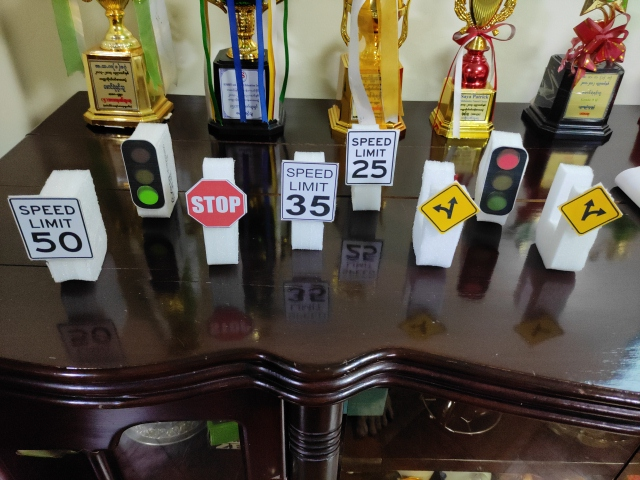Green Traffic Light: (120, 139, 166, 209)
Red Traffic Light: (478, 147, 528, 216)
Speed Limit 25: (346, 128, 397, 184)
Speed Limit 35: (280, 158, 338, 223)
Speed Limit 50: (7, 195, 95, 260)
Stop Sign: (184, 179, 247, 228)
Straight Or Left Sign: (422, 183, 476, 233)
Straight Or Right Sign: (560, 185, 621, 235)
